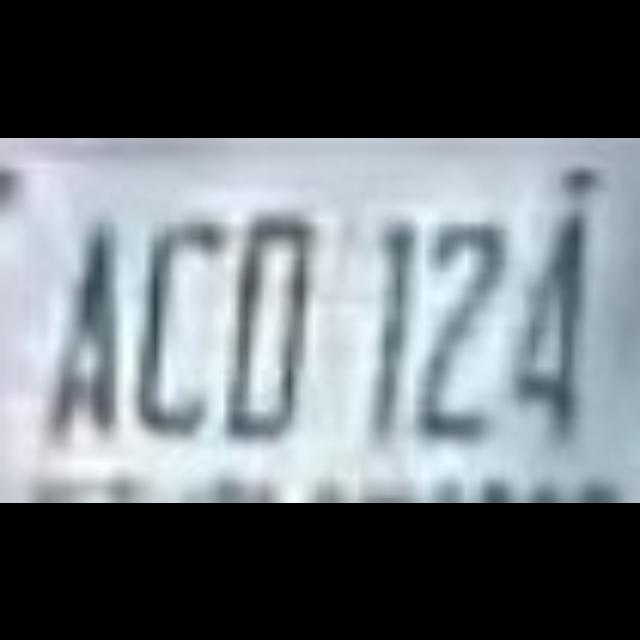1: (329, 173, 427, 484)
2: (429, 173, 527, 484)
4: (530, 173, 628, 484)
A: (30, 173, 128, 484)
C: (131, 173, 229, 484)
D: (231, 173, 329, 484)
